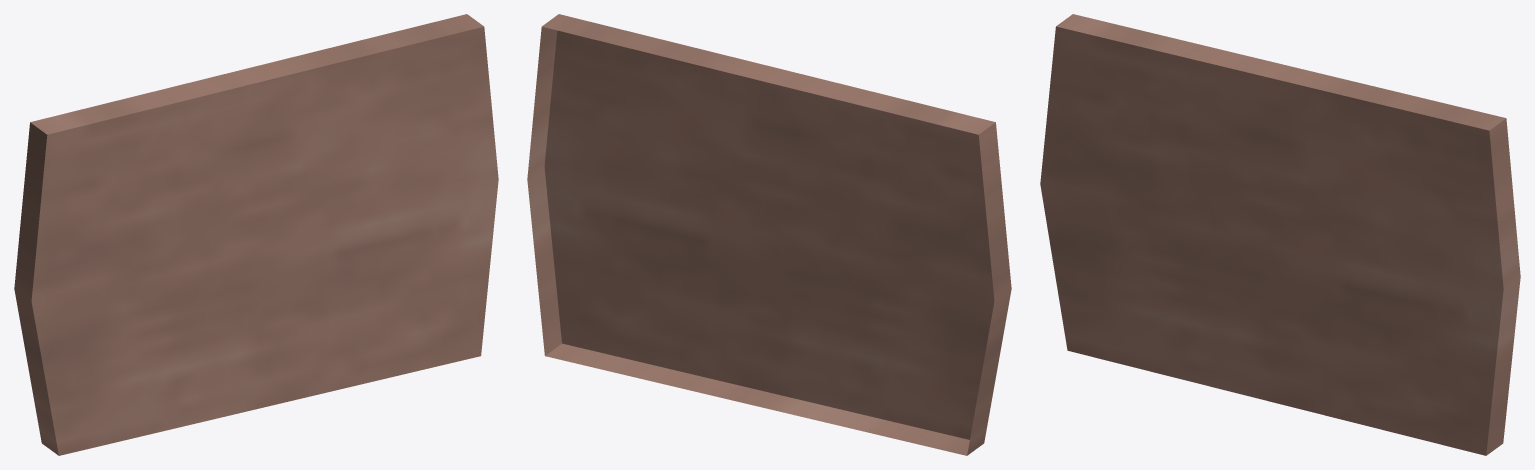
The model's file is button_1.fbx.
3 views of the same model, side by side, from view 1: azimuth 30°, elevation 25°; view 2: azimuth 150°, elevation 25°; view 3: azimuth 330°, elevation 25° (orthographic).
Visible parts, largest first — view 1: button_1; view 2: button_1; view 3: button_1.
Part boxes in pixels (left/top/right/bottom): button_1: left=14, top=14, right=498, bottom=455; button_1: left=527, top=14, right=1011, bottom=455; button_1: left=1040, top=14, right=1520, bottom=455.
Size of the model in its own units: 35.42 by 23.82 by 2.26.
